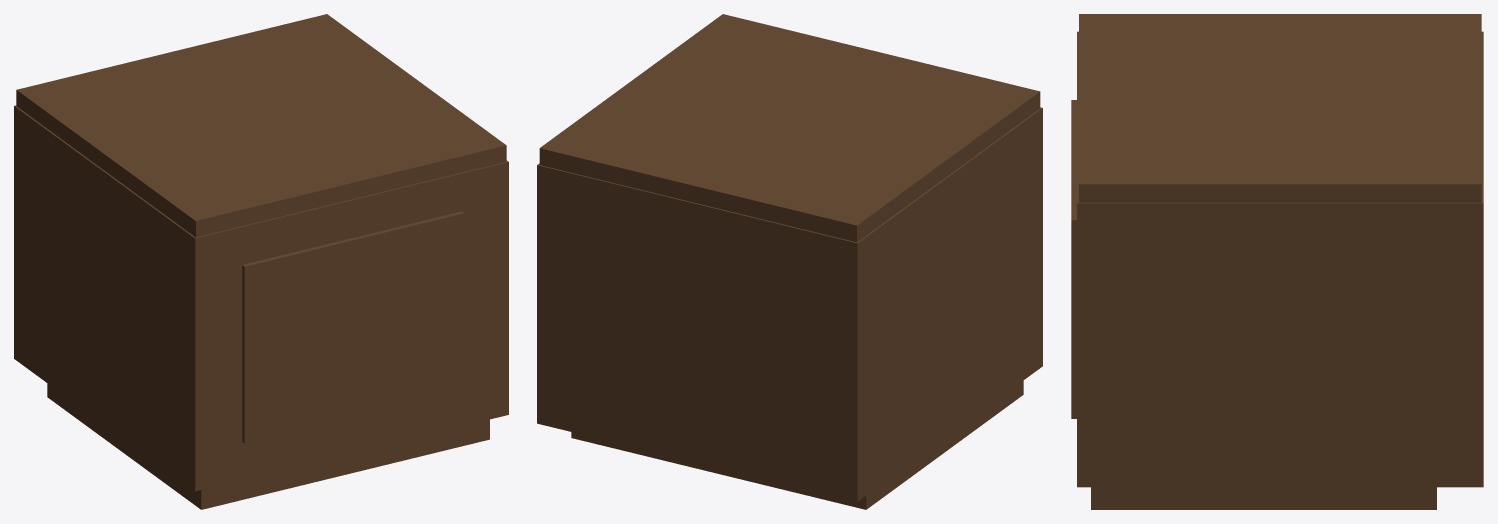
The model's file is bed_whole.glb.
3 renders of one model, left to right at view 1: azimuth 30°, elevation 25°; view 2: azimuth 150°, elevation 25°; view 3: azimuth 270°, elevation 25°, orthographic. The views are drawn at different scales.
Parts seen in each view (by area): view 1: bed_whole_0; view 2: bed_whole_0; view 3: bed_whole_0.
Part boxes in pixels (box(x1,y1,x2,y2)): bed_whole_0: box(14, 14, 508, 509); bed_whole_0: box(537, 14, 1042, 509); bed_whole_0: box(1071, 14, 1483, 509).
Size of the model in its own units: 1 by 0.9 by 1.01.
